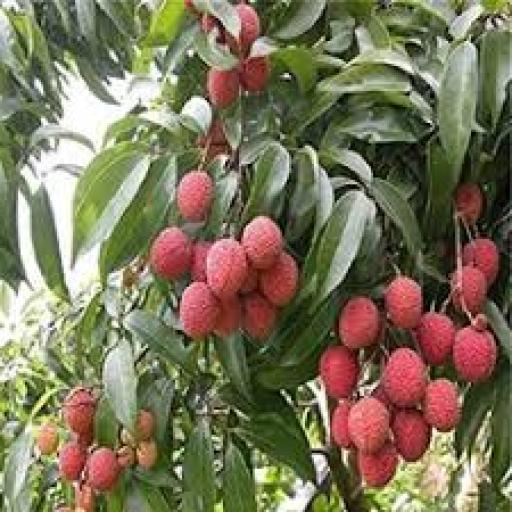lychee: (382, 349, 426, 407), (452, 326, 495, 382), (207, 239, 247, 298), (348, 396, 388, 452), (179, 283, 219, 339), (241, 217, 281, 270), (339, 296, 379, 348), (318, 346, 358, 398), (259, 253, 297, 307), (416, 312, 454, 366), (391, 410, 431, 461), (150, 228, 190, 279), (384, 276, 422, 327), (423, 378, 458, 432), (357, 442, 397, 486), (177, 171, 212, 220), (461, 237, 497, 284), (241, 292, 276, 339), (450, 267, 485, 314), (227, 3, 258, 54), (61, 387, 94, 434), (86, 449, 119, 491), (207, 69, 240, 109), (455, 183, 483, 225), (213, 296, 242, 336), (59, 442, 85, 482), (329, 401, 351, 448), (241, 57, 269, 93), (191, 242, 210, 282), (36, 424, 58, 455), (200, 119, 226, 145), (136, 440, 156, 471), (370, 383, 392, 411), (134, 410, 153, 441), (75, 485, 94, 511), (238, 269, 258, 293), (72, 426, 92, 448), (116, 447, 135, 468), (200, 14, 219, 34)
